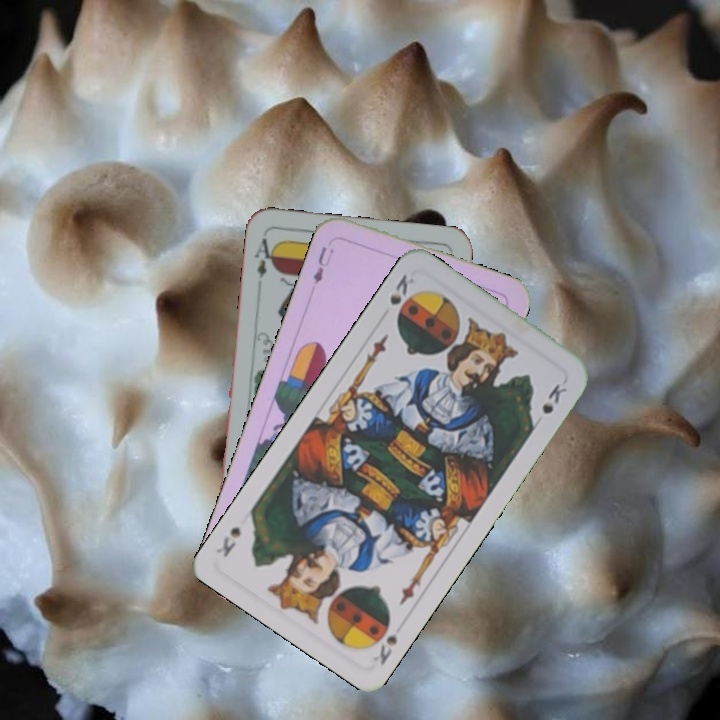EA: (251, 233, 278, 281)
EU: (308, 242, 337, 287)
SK: (366, 614, 400, 668), (385, 270, 418, 322)
